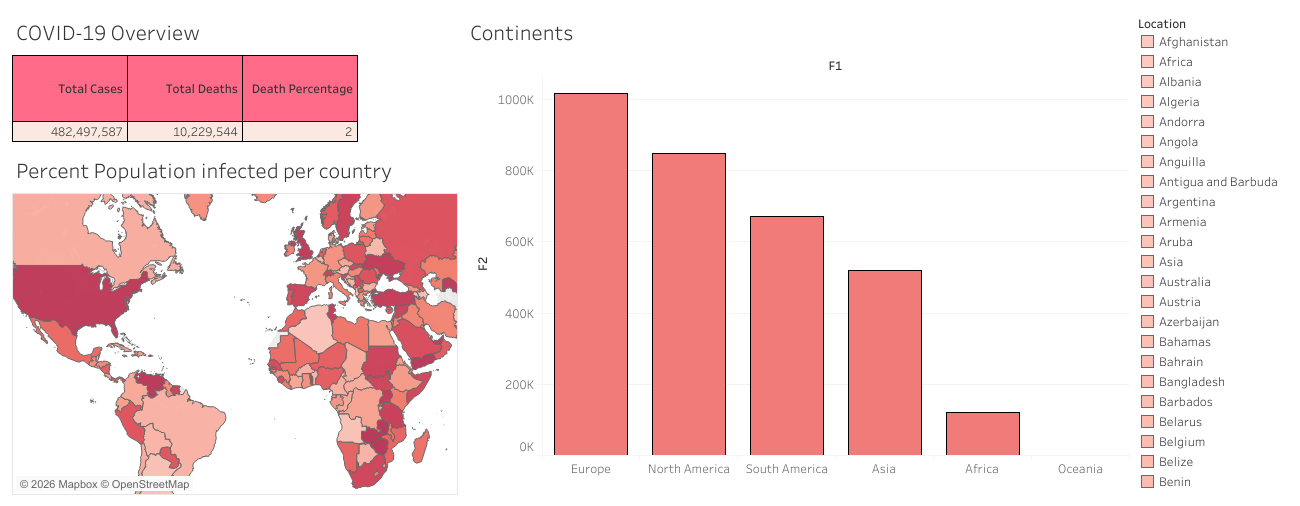

What the dashboard file says about the page in this screenshot:
{"tool":"tableau","page":{"name":"Dashboard 1","canvas":[1000,1000],"units":"permille","ordinal":0},"visuals":[{"type":"worksheet","title":"Sheet 1","mark":"Automatic","box":[7,16.8,397.2,289.3]},{"type":"worksheet","title":"Sheet 2","mark":"Automatic","rows":["F2"],"cols":["F1"],"box":[404.2,16.8,448.8,966.5]},{"type":"legend","title":"Sheet 3","param":"[federated.080ylm11rt9e2w1b4hoxr155wkx9].[none:location:nk]","box":[853,16.8,140,966.5]},{"type":"worksheet","title":"Sheet 3","mark":"Multipolygon","box":[7,306.1,397.2,677.1]}]}

Visuals, with their boxes on the dashboard's canvas, which has no fixed pixel size, in thousandths of its width and height (x1, y1, x2, y2). These are canvas units, not pixel positions in the 1300x506 screenshot, which may show the page scaled, cropped or inside an application window:
"Sheet 1" worksheet: (left=7, top=17, right=404, bottom=306)
"Sheet 2" worksheet: (left=404, top=17, right=853, bottom=983)
"Sheet 3" legend: (left=853, top=17, right=993, bottom=983)
"Sheet 3" worksheet (Multipolygon marks): (left=7, top=306, right=404, bottom=983)
